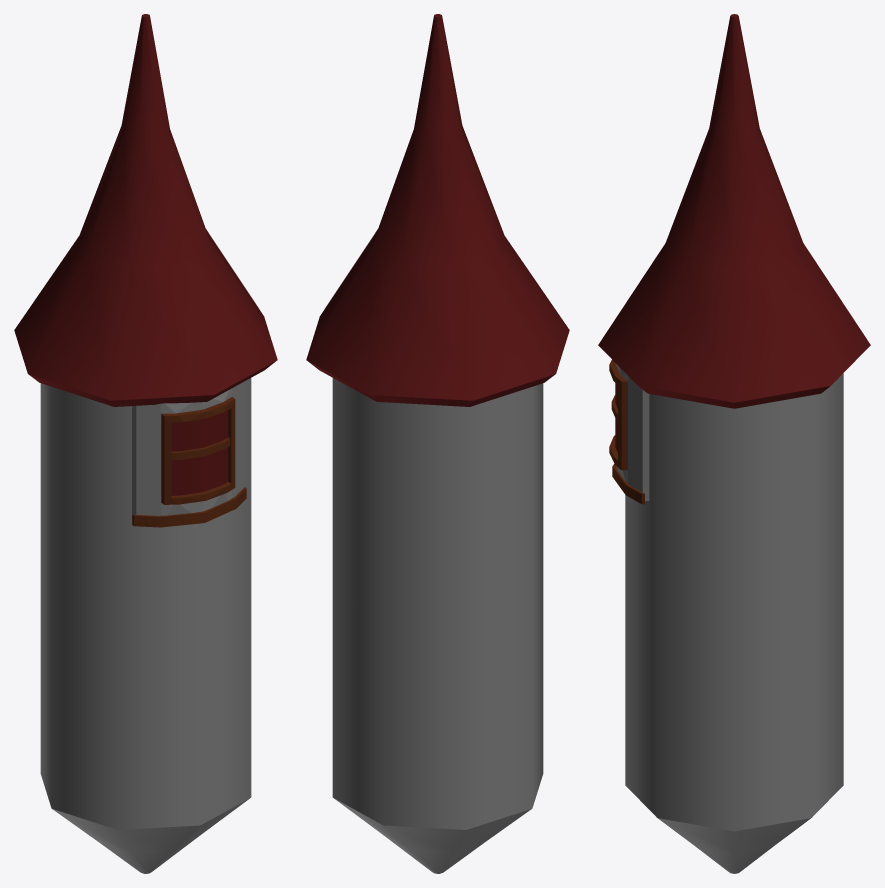
File: SM_turret_attachable_02.fbx
3 views of the same model, side by side, from view 1: azimuth 30°, elevation 25°; view 2: azimuth 150°, elevation 25°; view 3: azimuth 270°, elevation 25° (orthographic).
Parts seen in each view (by area): view 1: Box049; view 2: Box049; view 3: Box049.
Part boxes in pixels (x1,y1,x2,y2): Box049: [14, 14, 277, 873]; Box049: [306, 14, 569, 873]; Box049: [598, 14, 870, 873].
Bounding box in the file's own units: 87.92 × 87.92 × 304.
